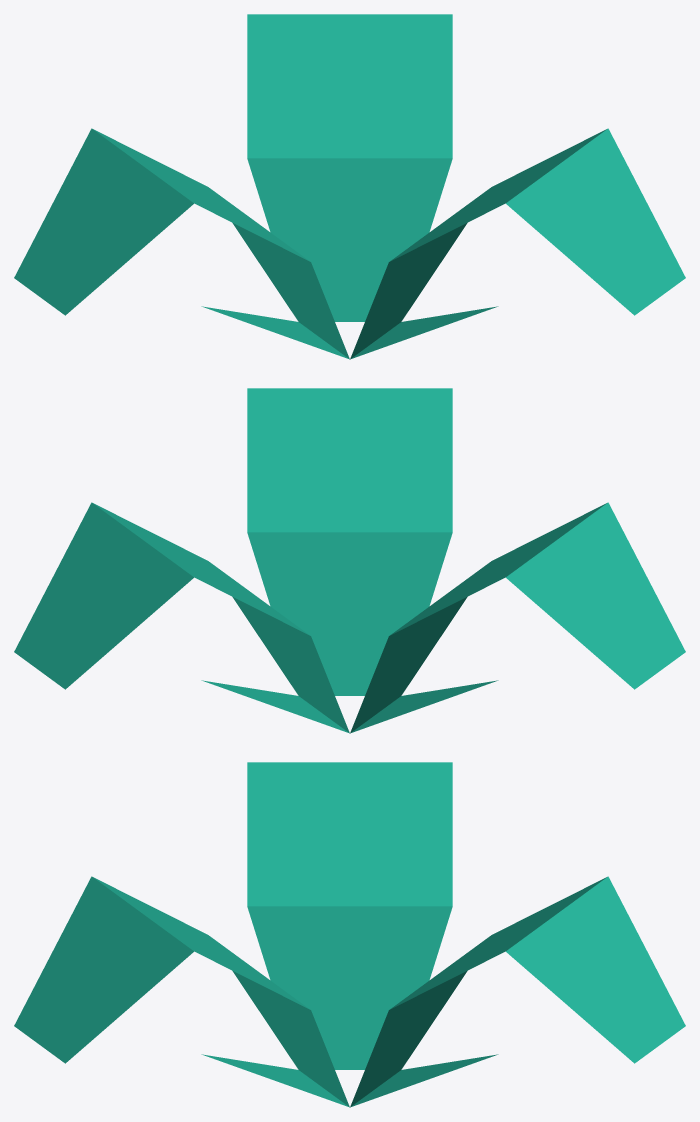
The model's file is plant_bushLargeTriangle.glb.
3 renders of one model, top to bottom at view 1: azimuth 30°, elevation 25°; view 2: azimuth 150°, elevation 25°; view 3: azimuth 270°, elevation 25°, orthographic.
Visible parts, largest first — view 1: plant_bushLargeTriangle; view 2: plant_bushLargeTriangle; view 3: plant_bushLargeTriangle.
Part boxes in pixels (x1,y1,x2,y2): plant_bushLargeTriangle: (14, 14, 685, 359); plant_bushLargeTriangle: (14, 388, 685, 733); plant_bushLargeTriangle: (14, 762, 685, 1107).
Size of the model in its own units: 0.4892 by 0.2032 by 0.5649.
